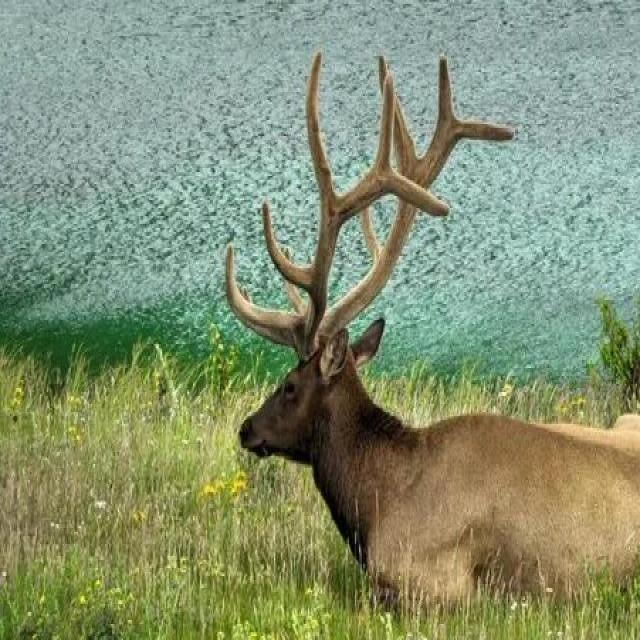deer: (210, 76, 640, 639)
